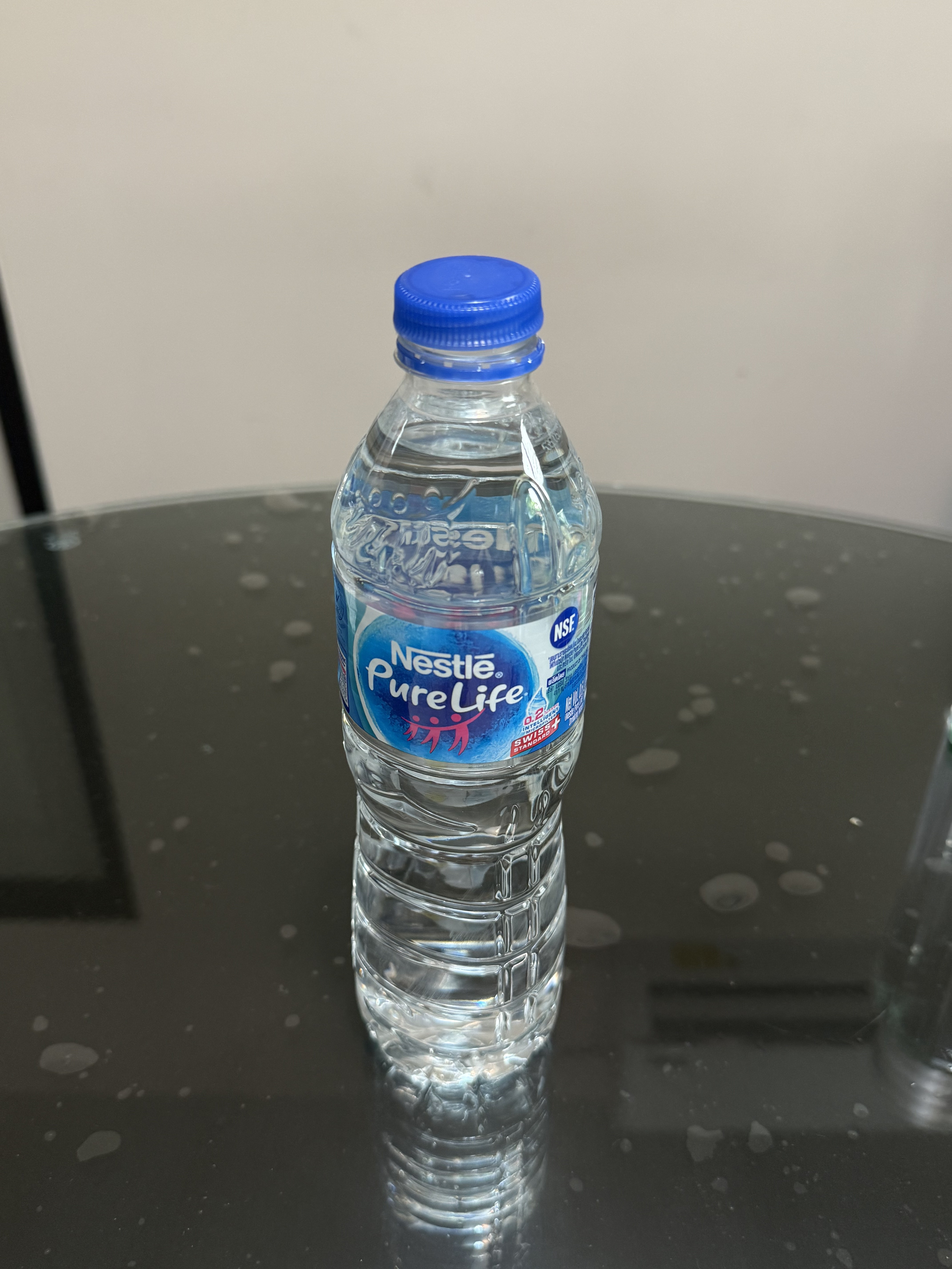half_cap: (386, 249, 549, 380)
